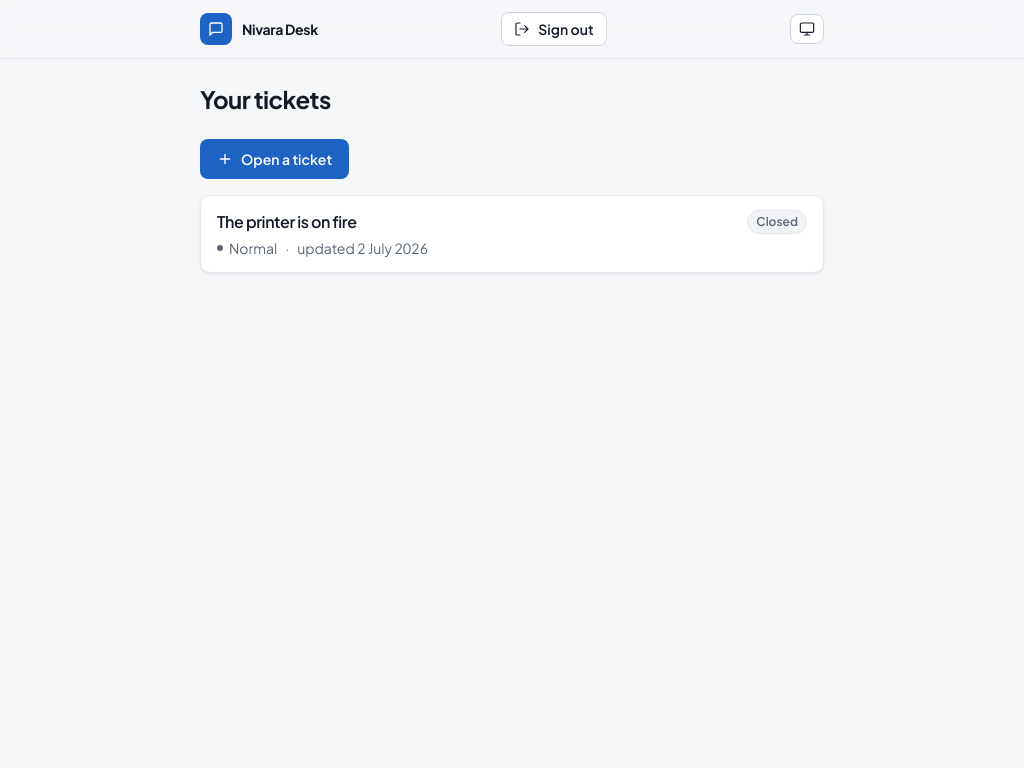
replying to a Ticket › lands on the new Ticket when the one replied to was closed
The image size is (1024, 768).
Click the button "The printer is on fire Normal · updated 2 July 2026 Closed": coordinates (287, 222) [201, 196, 823, 272]
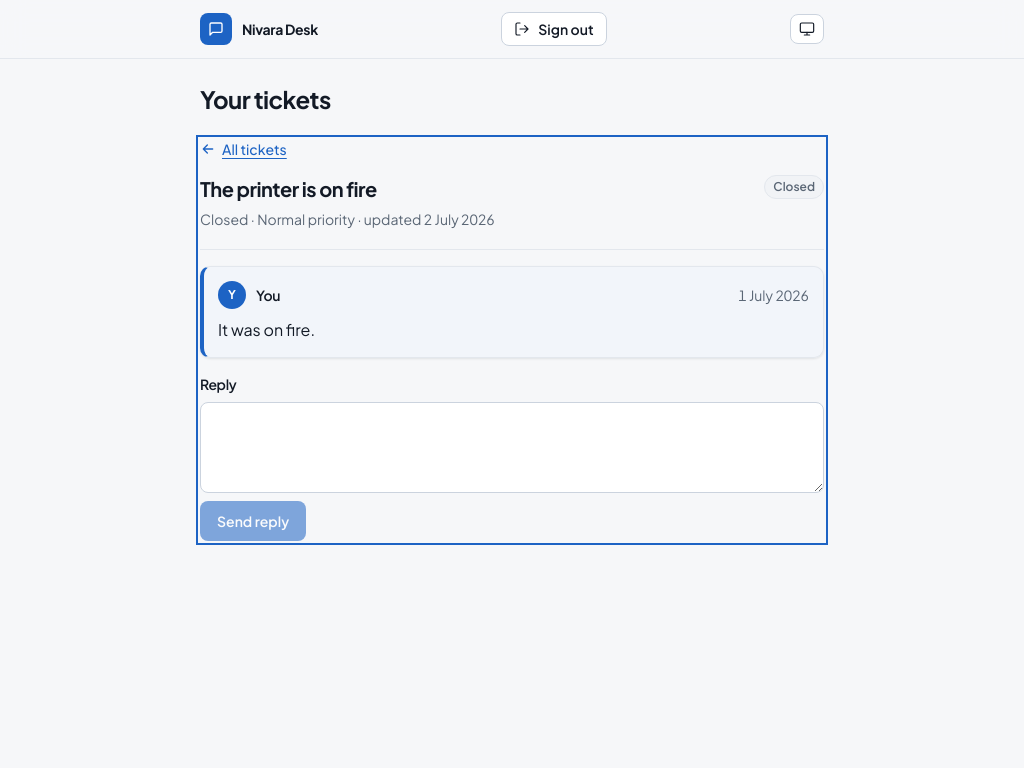
expect the list named "conversation" is shown: met, box [200, 266, 824, 358]
In the text box labelled "Reply": coordinates (512, 448) [200, 402, 824, 493], type "It is on fire again."
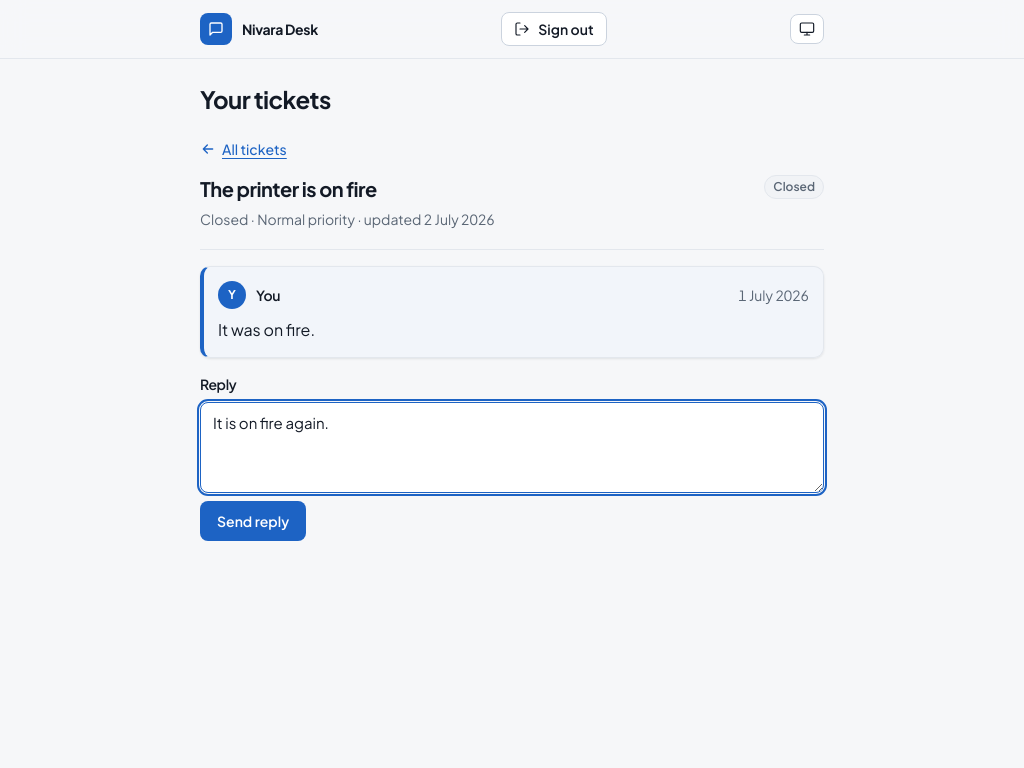
Click the button "Send reply": coordinates (253, 521) [200, 501, 306, 541]
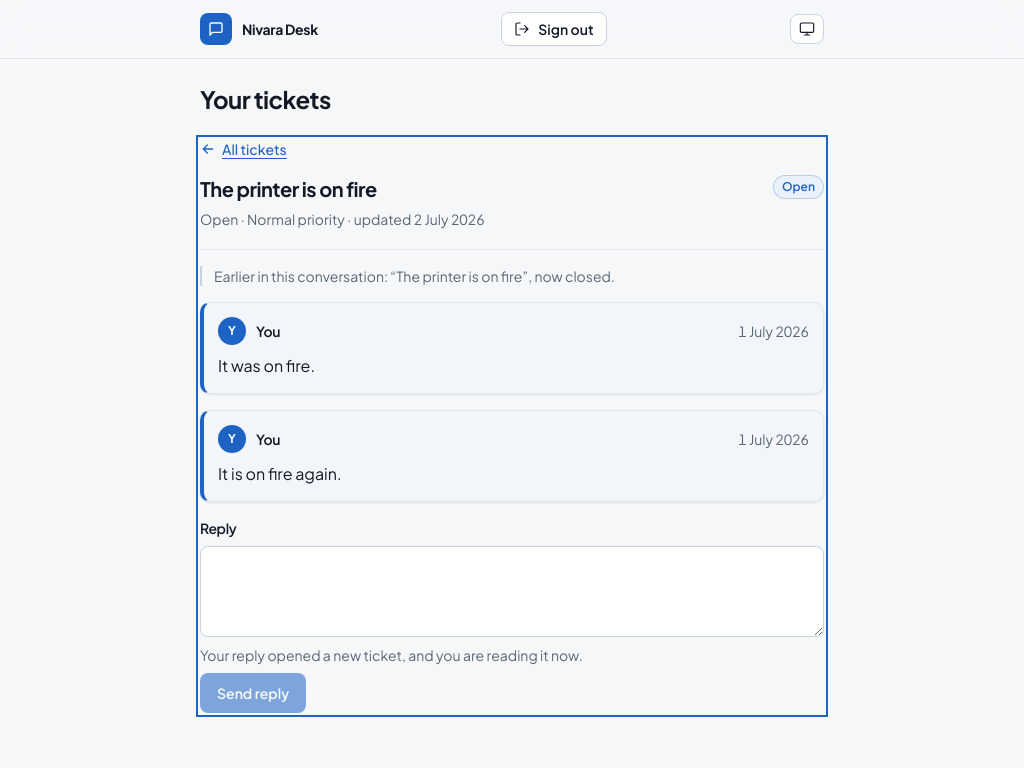
expect the text "Your reply opened a new ticket, and you are reading it now." is shown: met, box [200, 646, 583, 664]
expect the text "It is on fire again." is shown: met, box [218, 463, 342, 484]
